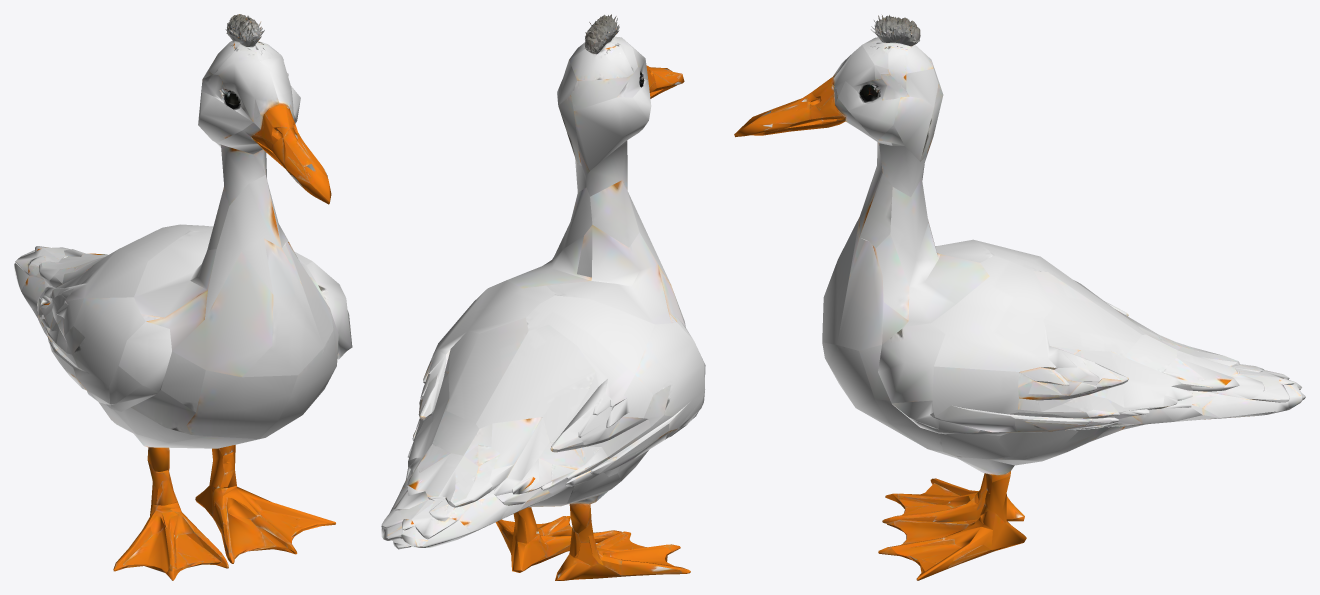
File: farm-duck.glb
3 renders of one model, left to right at view 1: azimuth 30°, elevation 25°; view 2: azimuth 150°, elevation 25°; view 3: azimuth 270°, elevation 25°, orthographic. The views are drawn at different scales.
Bounding box in the file's own units: 0.8993 × 1.88 × 1.88.
Materials: 1 (1 with a texture image).
